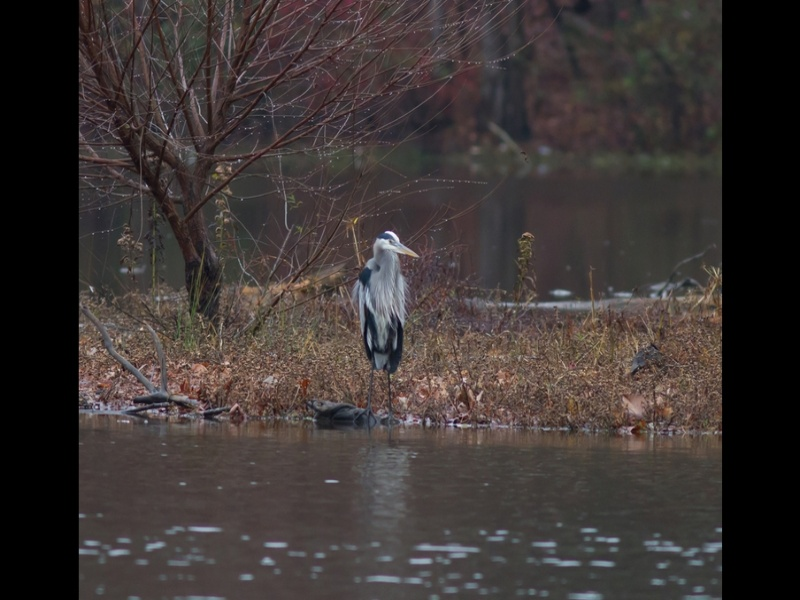heron: (347, 228, 424, 430)
